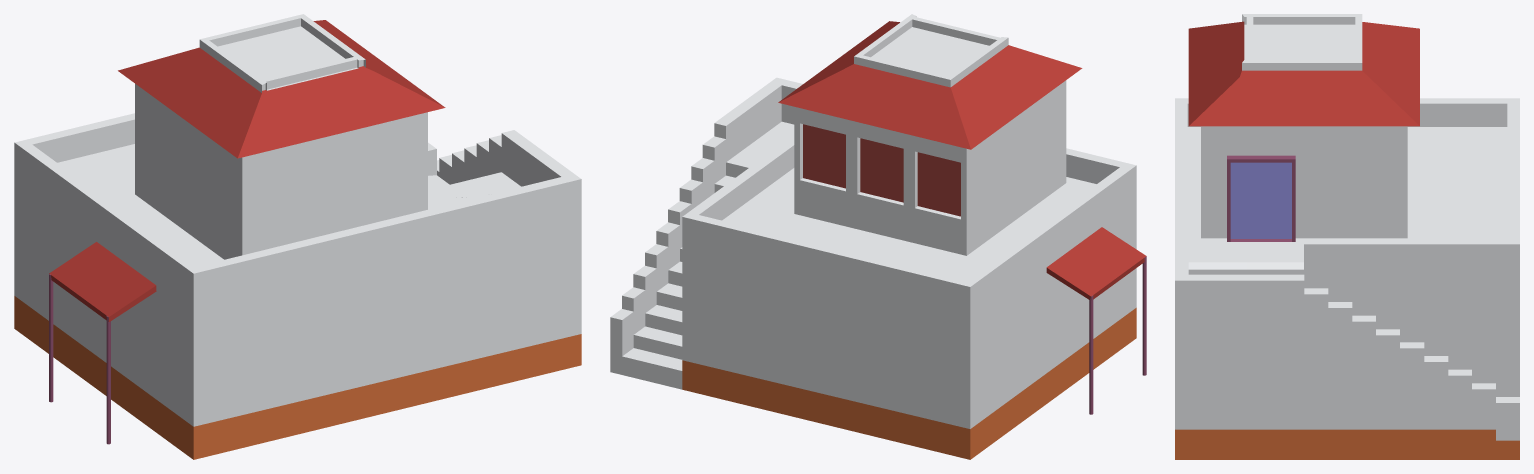
The model's file is Two_Floored_House.fbx.
The picture shows the model from 3 angles, left to right: view 1: azimuth 30°, elevation 25°; view 2: azimuth 150°, elevation 25°; view 3: azimuth 270°, elevation 25°; orthographic projection. The views are drawn at different scales.
Visible parts, largest first — view 1: Two Floored House; view 2: Two Floored House; view 3: Two Floored House.
Part boxes in pixels (<box>): Two Floored House: <box>14,14,581,459</box>; Two Floored House: <box>610,14,1146,459</box>; Two Floored House: <box>1175,14,1519,459</box>.
Bounding box in the file's own units: 1329 × 944 × 945.
